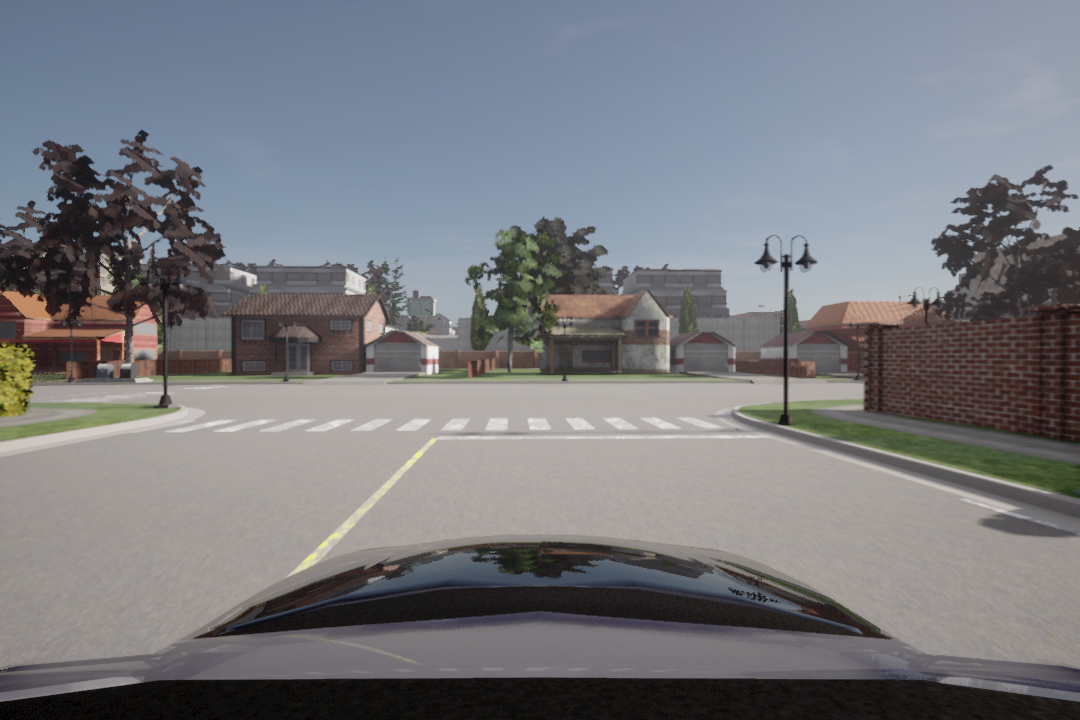walkside: (174, 410, 736, 434)
